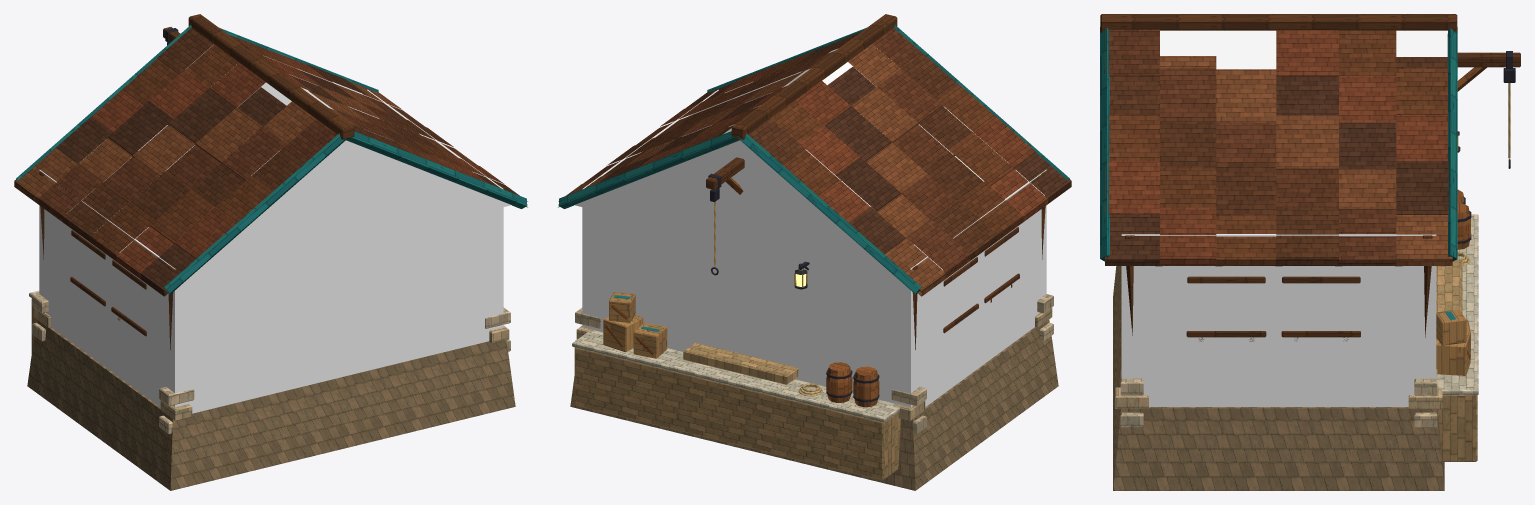
Rendered from harbour_warehouse.glb.
3 views of the same model, side by side, from view 1: azimuth 30°, elevation 25°; view 2: azimuth 150°, elevation 25°; view 3: azimuth 270°, elevation 25° (orthographic). The views are drawn at different scales.
Parts seen in each view (by area): view 1: HarbourWarehouse, col_warehouse_main, col_warehouse_roof; view 2: HarbourWarehouse, col_warehouse_main, col_warehouse_roof; view 3: HarbourWarehouse, col_warehouse_main, col_warehouse_roof.
Boxes of the visible parts, bbox=[...] form: HarbourWarehouse: bbox=[14, 14, 527, 490]; col_warehouse_main: bbox=[39, 89, 503, 413]; col_warehouse_roof: bbox=[66, 44, 511, 285]; HarbourWarehouse: bbox=[558, 14, 1071, 490]; col_warehouse_main: bbox=[582, 89, 1046, 407]; col_warehouse_roof: bbox=[574, 48, 1044, 285]; HarbourWarehouse: bbox=[1100, 14, 1520, 490]; col_warehouse_main: bbox=[1121, 234, 1436, 406]; col_warehouse_roof: bbox=[1160, 30, 1447, 69].
Size of the model in its own units: 9.75 by 8.32 by 8.43.
11 materials, 8 textured.
